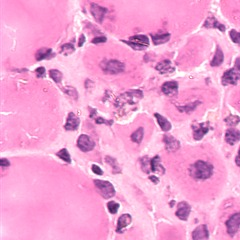New: (158, 141, 230, 203), (79, 39, 147, 88), (160, 84, 222, 124), (110, 111, 158, 155), (215, 197, 239, 240)
